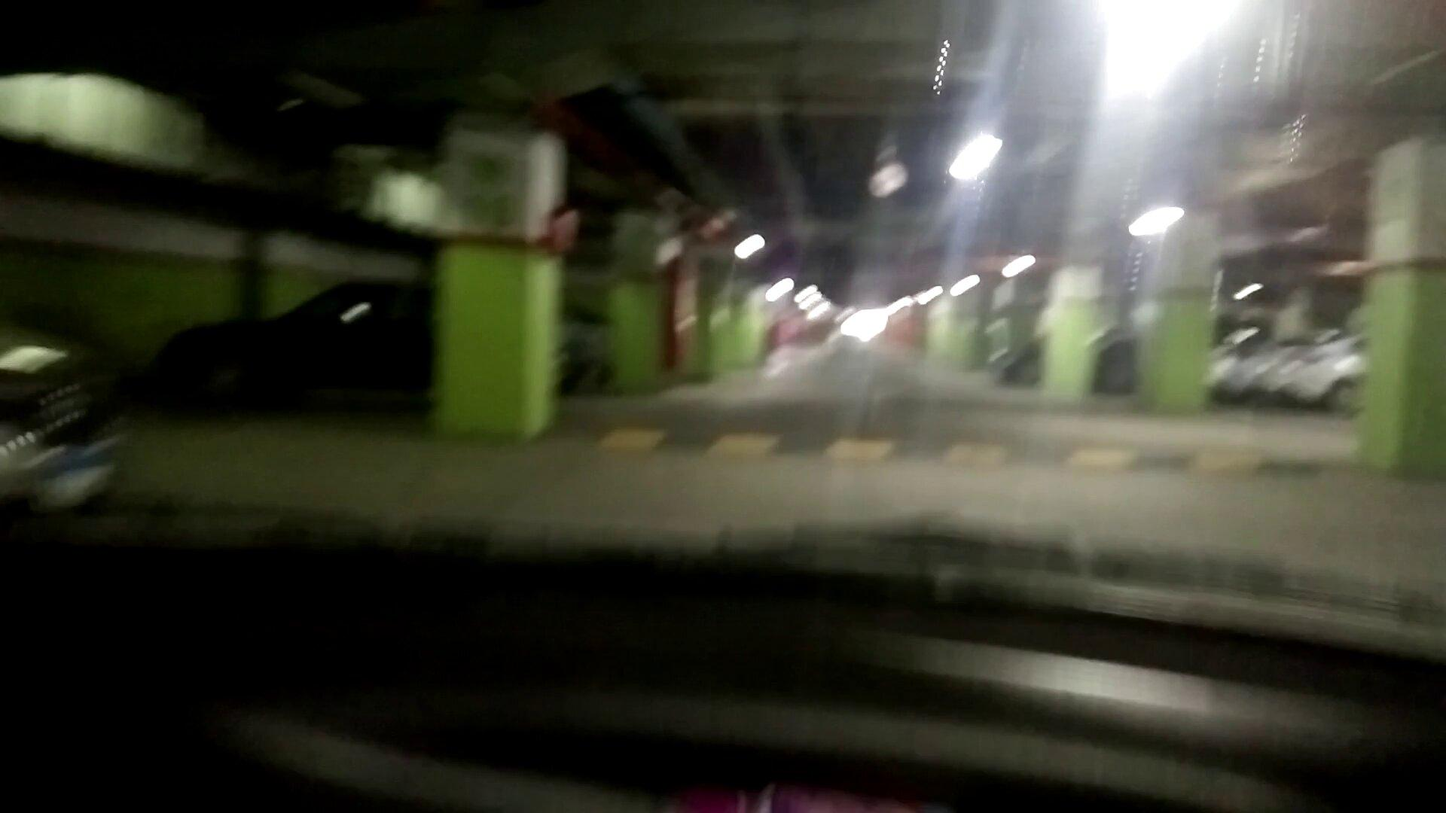Bump: (569, 429, 1350, 480)
